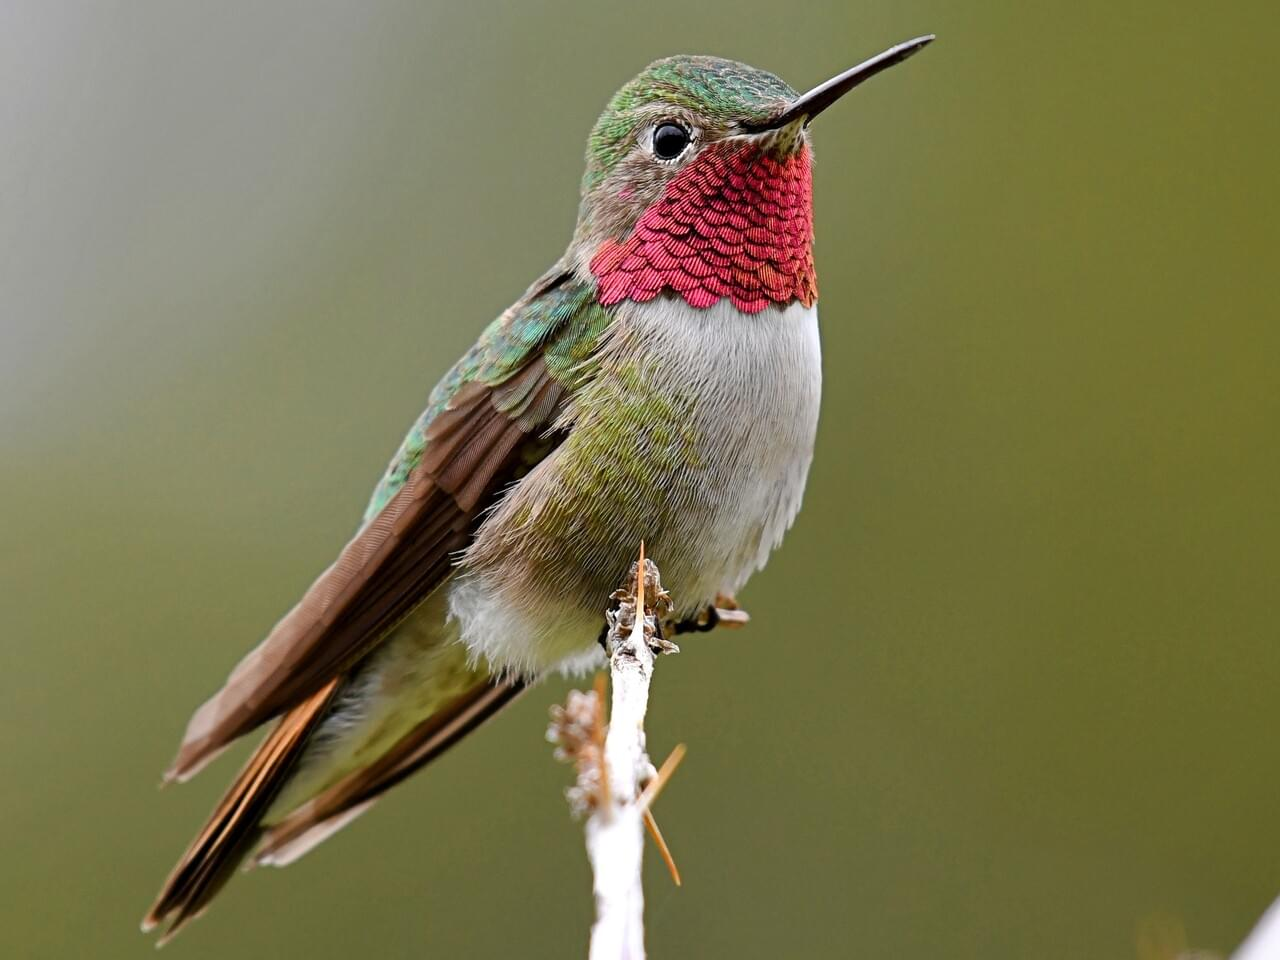selasphorus platycercus: (138, 35, 934, 940)
